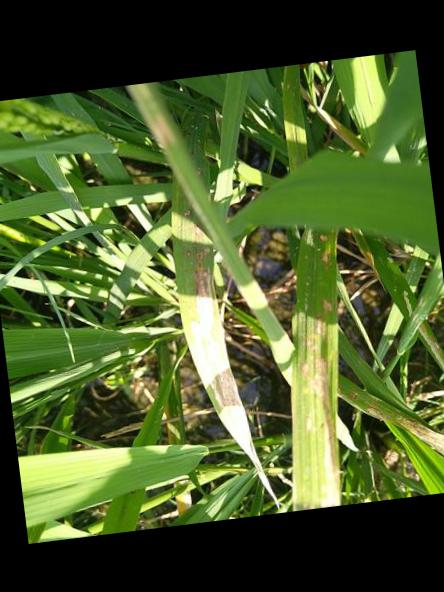Leaf Streak: (171, 169, 278, 501), (292, 227, 343, 511), (337, 389, 444, 453), (126, 81, 172, 150)
